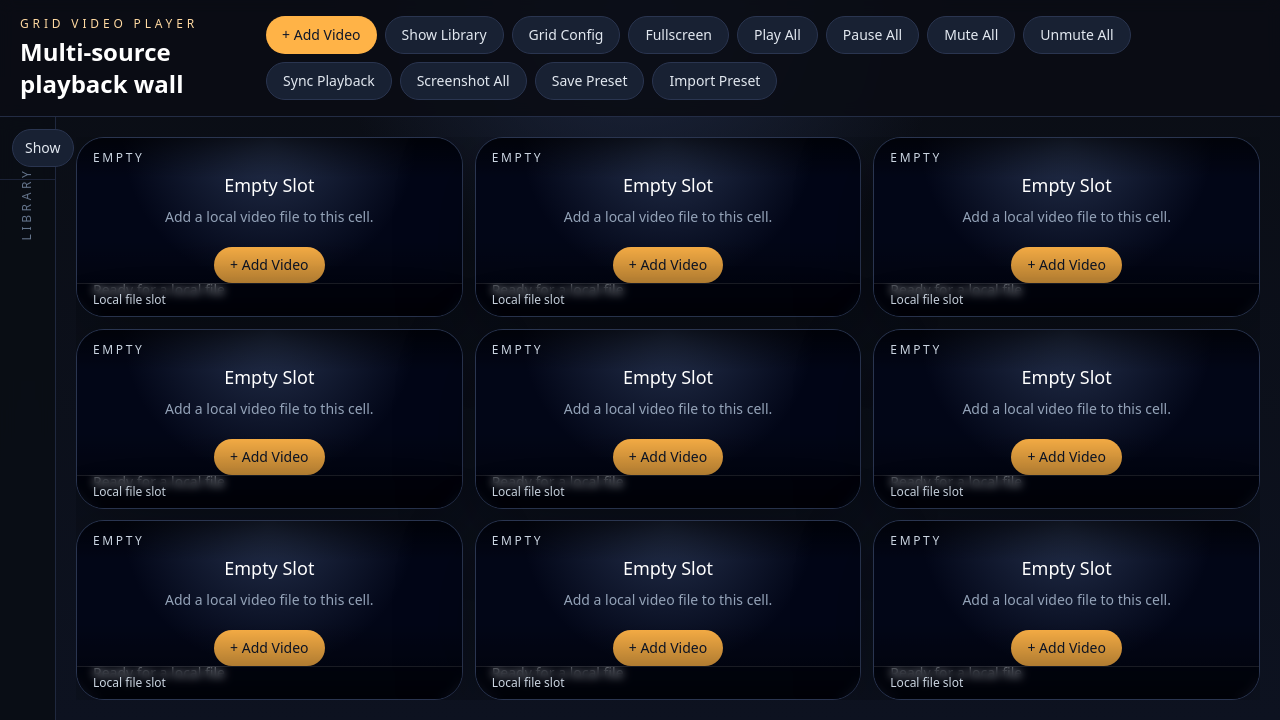
Test: App UI behavior › restores sidebar state and library videos from the saved session on load
Expected: the text "Restored Camera" is not shown
Click the button "Show Library".
click(444, 35)  # box [385,16,504,54]
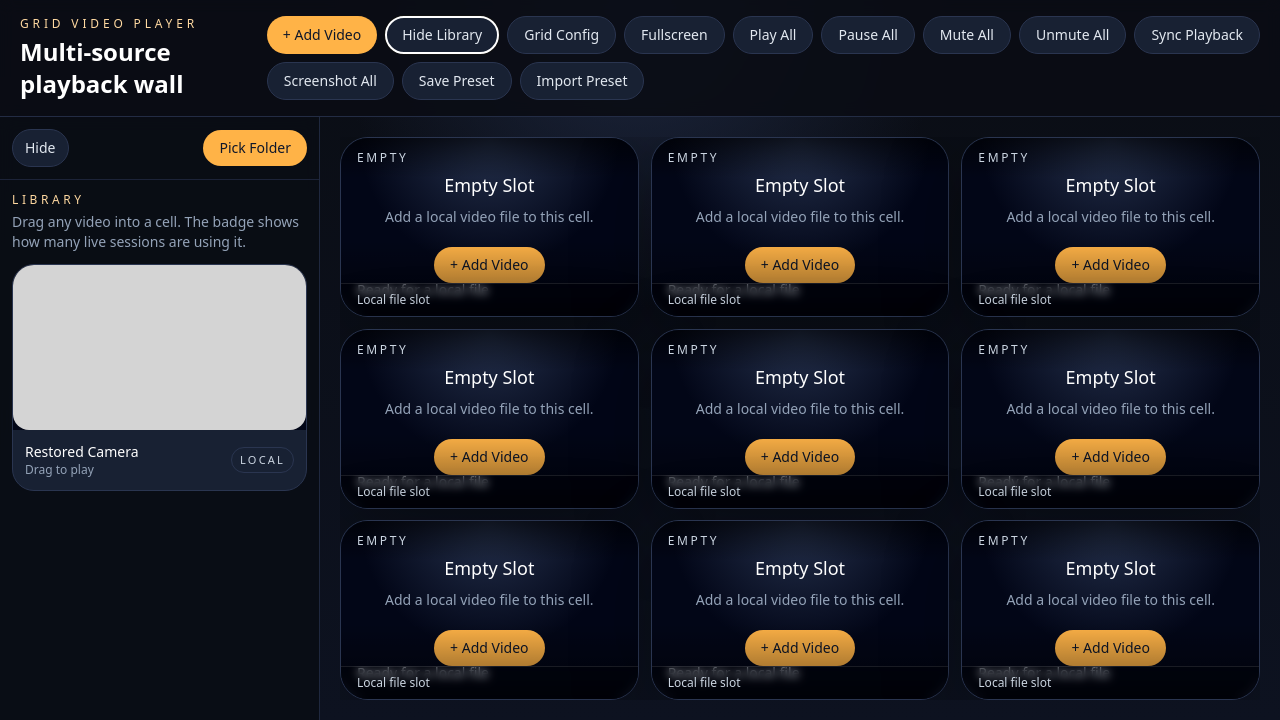
Result: the text "Restored Camera" is shown at [25,442,138,462]
